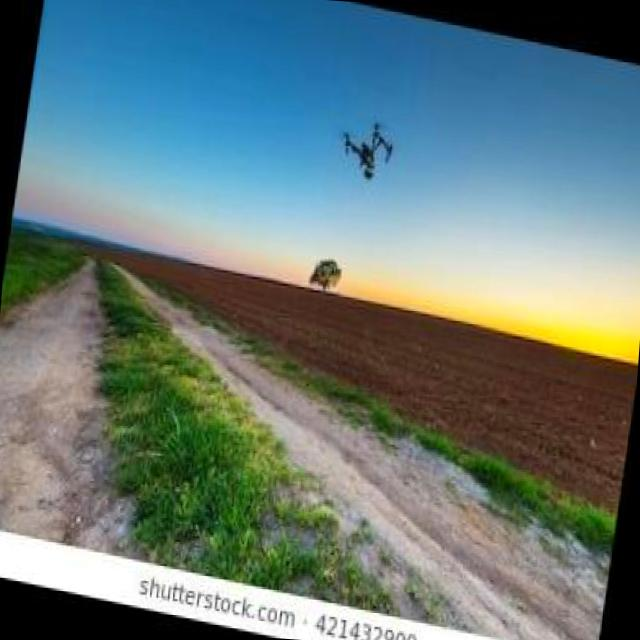drone: (336, 107, 396, 182)
